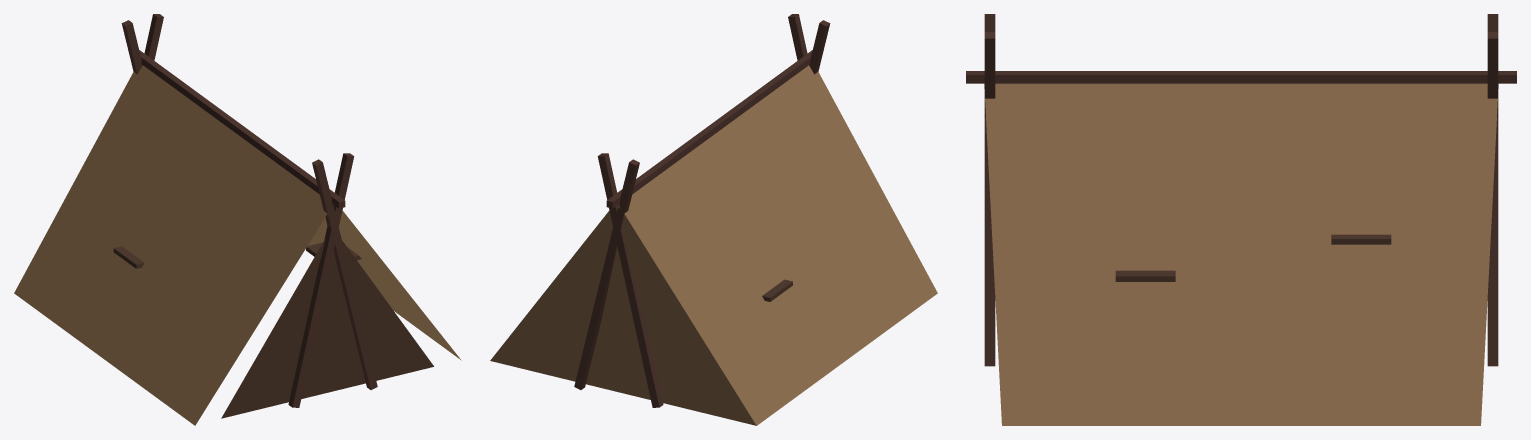
The model's file is tent.glb.
3 views of the same model, side by side, from view 1: azimuth 30°, elevation 25°; view 2: azimuth 150°, elevation 25°; view 3: azimuth 270°, elevation 25° (orthographic). The views are drawn at different scales.
Visible parts, largest first — view 1: canvas, mouth, pole, pole.001, ridge, pole.003, pole.002; view 2: canvas, pole.002, ridge, pole.003, pole.001, pole; view 3: canvas, ridge, pole.001, pole.003, pole, pole.002, patch0, patch2.
Boxes of the visible parts, x1,y1,x2,y2 form: canvas: [14, 65, 461, 425]; mouth: [221, 238, 433, 418]; pole: [288, 153, 354, 407]; pole.001: [312, 159, 377, 389]; ridge: [139, 50, 345, 208]; pole.003: [121, 20, 142, 74]; pole.002: [144, 14, 163, 60]; canvas: [490, 65, 937, 425]; pole.002: [597, 153, 663, 407]; ridge: [606, 50, 812, 208]; pole.003: [574, 159, 639, 389]; pole.001: [809, 20, 830, 74]; pole: [788, 14, 807, 60]; canvas: [984, 83, 1498, 425]; ridge: [966, 71, 1516, 83]; pole.001: [984, 14, 995, 366]; pole.003: [1487, 14, 1498, 366]; pole: [984, 32, 995, 117]; pole.002: [1487, 32, 1498, 117]; patch0: [1115, 270, 1175, 281]; patch2: [1331, 234, 1391, 244].
Size of the model in its own units: 3.4 by 2.92 by 4.6.
